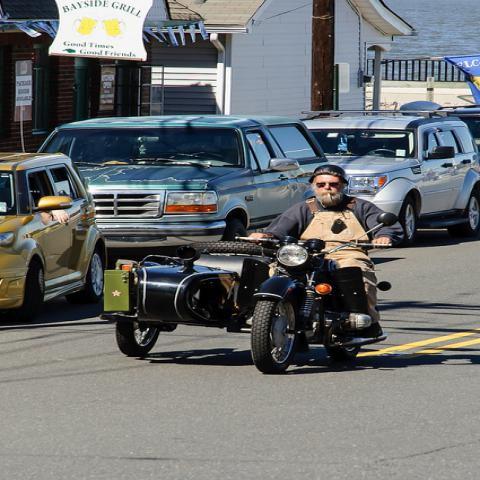car: (37, 115, 341, 253), (306, 114, 480, 242), (0, 151, 108, 325)
motorcycle: (95, 212, 404, 374)
